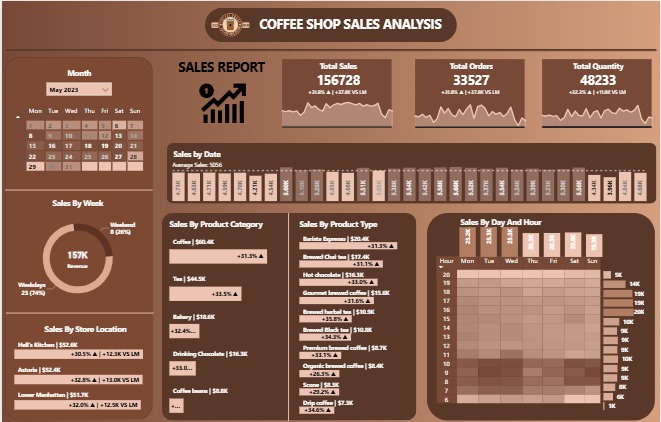

The dashboard page shown, as its layout file describes it:
{"tool":"powerbi","page":{"name":"Page 1","canvas":[1400,900],"ordinal":0},"visuals":[{"type":"cardVisual","fields":{"Data":["Date Table.Total Sales"]},"box":[592.5,119,242.9,155.9],"z":0,"group":"g8"},{"type":"donutChart","title":"Sales By Week","fields":{"Category":["Date Table.Weekdays And Weekend"],"Y":["CountNonNull(Date Table.Weekdays And Weekend)"]},"box":[15.7,420,292.5,236.2],"z":0,"group":"g3"},{"type":"shape","box":[903.3,450,485,441.7],"z":0},{"type":"cardVisual","fields":{"Data":["Count(Transactions.transaction_id)"]},"box":[875.3,119,242.9,156.7],"z":1000,"group":"g8"},{"type":"shape","box":[350,302.5,1041.2,128.8],"z":1000},{"type":"card","fields":{"Values":["Sum(Transactions.Sales)"]},"box":[111.8,512.9,99.9,69.7],"z":1000,"group":"g3"},{"type":"shape","box":[432.5,14.1,535.8,72.5],"z":1312,"group":"g5"},{"type":"cardVisual","fields":{"Data":["Sum(Transactions.transaction_qty)"]},"box":[1146.1,118.6,242.8,156.6],"z":2000,"group":"g8"},{"type":"shape","box":[340,450,541.4,441.4],"z":2000},{"type":"shape","box":[7.1,120,314.3,771.4],"z":3000},{"type":"areaChart","fields":{"Y":["Date Table.Total Sales"],"Category":["Date Table.Date.Variation.Date Hierarchy.Year","Date Table.Date.Variation.Date Hierarchy.Quarter","Date Table.Date.Variation.Date Hierarchy.Month","Date Table.Date.Variation.Date Hierarchy.Day"]},"box":[581.4,184.1,265.4,87.1],"z":3000,"group":"g8"},{"type":"group","id":"g1","title":"Group 6","box":[15.7,420,292.5,236.2],"z":3004,"group":"g4"},{"type":"group","id":"g2","title":"Group 7","box":[15.7,420,292.5,236.2],"z":3004,"group":"g1"},{"type":"group","id":"g3","title":"Group 8","box":[15.7,420,292.5,236.2],"z":3004,"group":"g2"},{"type":"areaChart","fields":{"Category":["Date Table.Date.Variation.Date Hierarchy.Year","Date Table.Date.Variation.Date Hierarchy.Quarter","Date Table.Date.Variation.Date Hierarchy.Month","Date Table.Date.Variation.Date Hierarchy.Day"],"Y":["Sum(Transactions.transaction_qty)"]},"box":[1134.8,184.8,265.2,86.3],"z":4000,"group":"g8"},{"type":"pivotTable","fields":{"Columns":["Date Table.Day Name"],"Rows":["Date Table.Week No"],"Values":["Min(Date Table.Day Num)"]},"box":[18.6,218.6,290,184.3],"z":4000},{"type":"areaChart","fields":{"Y":["Count(Transactions.transaction_id)"],"Category":["Date Table.Date.Variation.Date Hierarchy.Year","Date Table.Date.Variation.Date Hierarchy.Quarter","Date Table.Date.Variation.Date Hierarchy.Month","Date Table.Date.Variation.Date Hierarchy.Day"]},"box":[863.9,184,265.2,87.1],"z":5000,"group":"g8"},{"type":"clusteredBarChart","title":"Sales By Store Location","fields":{"Y":["Transactions.PlaceHolder","Sum(Transactions.Sales)"],"Category":["Transactions.store_location"]},"box":[21.2,687.5,312.5,190],"z":5000},{"type":"group","id":"g4","title":"Group 5","box":[15.7,420,292.9,235.7],"z":6000},{"type":"clusteredColumnChart","fields":{"Category":["Transactions.transaction_date"],"Y":["Sum(Transactions.Sales)"]},"box":[358.3,319.2,1019.2,112.5],"z":7000},{"type":"clusteredBarChart","title":"Sales By Product Category","fields":{"Y":["Transactions.PlaceHolder","Sum(Transactions.Sales)"],"Category":["Transactions.product_category"]},"box":[350,463.3,250,420],"z":8000},{"type":"pivotTable","fields":{"Columns":["Date Table.Day Name"],"Rows":["Transactions.Hour"],"Values":["Date Table.Total Sales"]},"box":[920,538.5,368.9,354.1],"z":8000,"group":"g6"},{"type":"image","box":[441.3,10,91.2,80.6],"z":8001,"group":"g5"},{"type":"clusteredBarChart","title":"Sales By Product Type","fields":{"Y":["Transactions.PlaceHolder","Sum(Transactions.Sales)"],"Category":["Transactions.product_type"]},"box":[627.8,463.3,253.3,420],"z":9000},{"type":"clusteredBarChart","fields":{"Category":["Transactions.Hour"],"Y":["Date Table.Total Sales"]},"box":[1276.2,563.3,96.9,313.1],"z":9000,"group":"g6"},{"type":"group","id":"g5","title":"Group 2","box":[432.5,10,535,80],"z":10000,"group":"g7"},{"type":"group","id":"g6","title":"Group 1","box":[920,456.2,452.5,436.2],"z":10000},{"type":"columnChart","fields":{"Category":["Date Table.Day Name"],"Y":["Date Table.Total Sales"]},"box":[968.9,456.2,315.4,95.2],"z":10001,"group":"g6"},{"type":"shape","box":[0,95.7,1400,12.9],"z":11000},{"type":"slicer","fields":{"Values":["Date Table.Mth Year"]},"box":[85,163.8,157.5,55],"z":12000},{"type":"textbox","box":[542.3,23.8,413.1,46.9],"z":12001,"group":"g7"},{"type":"group","id":"g7","title":"Group 3","box":[432.5,10,535,80],"z":13000},{"type":"textbox","box":[358.8,311.2,157.5,41.2],"z":14000},{"type":"group","id":"g8","title":"Group 4","box":[581.4,118.6,818.6,157.1],"z":15000},{"type":"textbox","box":[970,456.2,215.4,36.2],"z":16000},{"type":"shape","box":[5.7,385.7,314.3,34.3],"z":17000},{"type":"shape","box":[8.6,647.1,314.3,34.3],"z":18000},{"type":"textbox","box":[135,137.5,76.2,37.5],"z":19000},{"type":"shape","box":[581.1,450,57.8,443.3],"z":20000},{"type":"textbox","box":[340,117.8,253.3,77.8],"z":21000},{"type":"image","box":[405,158.3,128.3,120],"z":22000}]}

Visuals, with their boxes in screenshot pixels (x1, y1, x2, y2), scaled from the page's 1400x900 canvas onto the 661x422 screenshot:
cardVisual - Date Table.Total Sales: crop(280, 56, 394, 129)
"Sales By Week" donutChart: crop(7, 197, 146, 308)
shape: crop(426, 211, 655, 418)
cardVisual - Count(Transactions.transaction_id): crop(413, 56, 528, 129)
shape: crop(165, 142, 657, 202)
card - Sum(Transactions.Sales): crop(53, 240, 100, 273)
shape: crop(204, 7, 457, 41)
cardVisual - Sum(Transactions.transaction_qty): crop(541, 56, 656, 129)
shape: crop(161, 211, 416, 418)
shape: crop(3, 56, 152, 418)
areaChart - Date Table.Total Sales x Date Table.Date.Variation.Date Hierarchy.Year: crop(275, 86, 400, 127)
"Group 6" group: crop(7, 197, 146, 308)
"Group 7" group: crop(7, 197, 146, 308)
"Group 8" group: crop(7, 197, 146, 308)
areaChart - Date Table.Date.Variation.Date Hierarchy.Year x Date Table.Date.Variation.Date Hierarchy.Quarter: crop(536, 87, 660, 127)
pivotTable - Date Table.Day Name x Date Table.Week No: crop(9, 102, 146, 189)
areaChart - Count(Transactions.transaction_id) x Date Table.Date.Variation.Date Hierarchy.Year: crop(408, 86, 533, 127)
"Sales By Store Location" clusteredBarChart: crop(10, 322, 158, 411)
"Group 5" group: crop(7, 197, 146, 307)
clusteredColumnChart - Transactions.transaction_date x Sum(Transactions.Sales): crop(169, 150, 650, 202)
"Sales By Product Category" clusteredBarChart: crop(165, 217, 283, 414)
pivotTable - Date Table.Day Name x Transactions.Hour: crop(434, 252, 609, 419)
image: crop(208, 5, 251, 42)
"Sales By Product Type" clusteredBarChart: crop(296, 217, 416, 414)
clusteredBarChart - Transactions.Hour x Date Table.Total Sales: crop(603, 264, 648, 411)
"Group 2" group: crop(204, 5, 457, 42)
"Group 1" group: crop(434, 214, 648, 418)
columnChart - Date Table.Day Name x Date Table.Total Sales: crop(457, 214, 606, 259)
shape: crop(0, 45, 660, 51)
slicer - Date Table.Mth Year: crop(40, 77, 114, 103)
textbox: crop(256, 11, 451, 33)
"Group 3" group: crop(204, 5, 457, 42)
textbox: crop(169, 146, 244, 165)
"Group 4" group: crop(275, 56, 660, 129)
textbox: crop(458, 214, 560, 231)
shape: crop(3, 181, 151, 197)
shape: crop(4, 303, 152, 320)
textbox: crop(64, 64, 100, 82)
shape: crop(274, 211, 302, 419)
textbox: crop(161, 55, 280, 92)
image: crop(191, 74, 252, 130)
